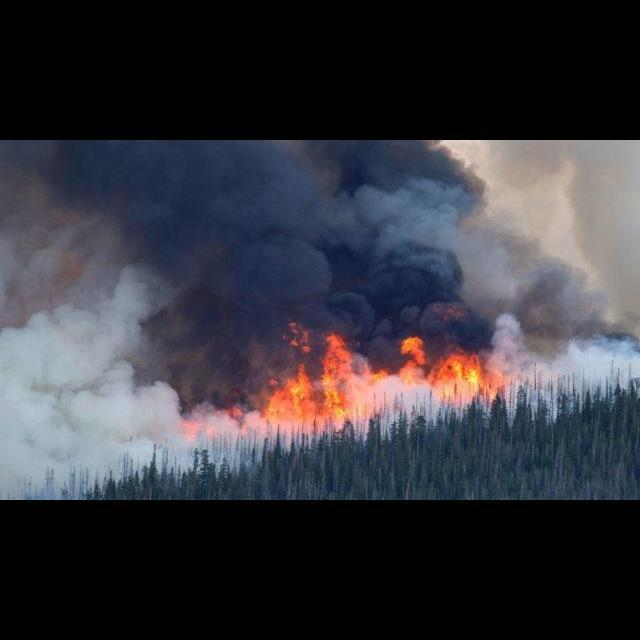Fire: (257, 326, 495, 426)
Smoke: (0, 141, 640, 328), (3, 331, 246, 502), (499, 333, 640, 427)
